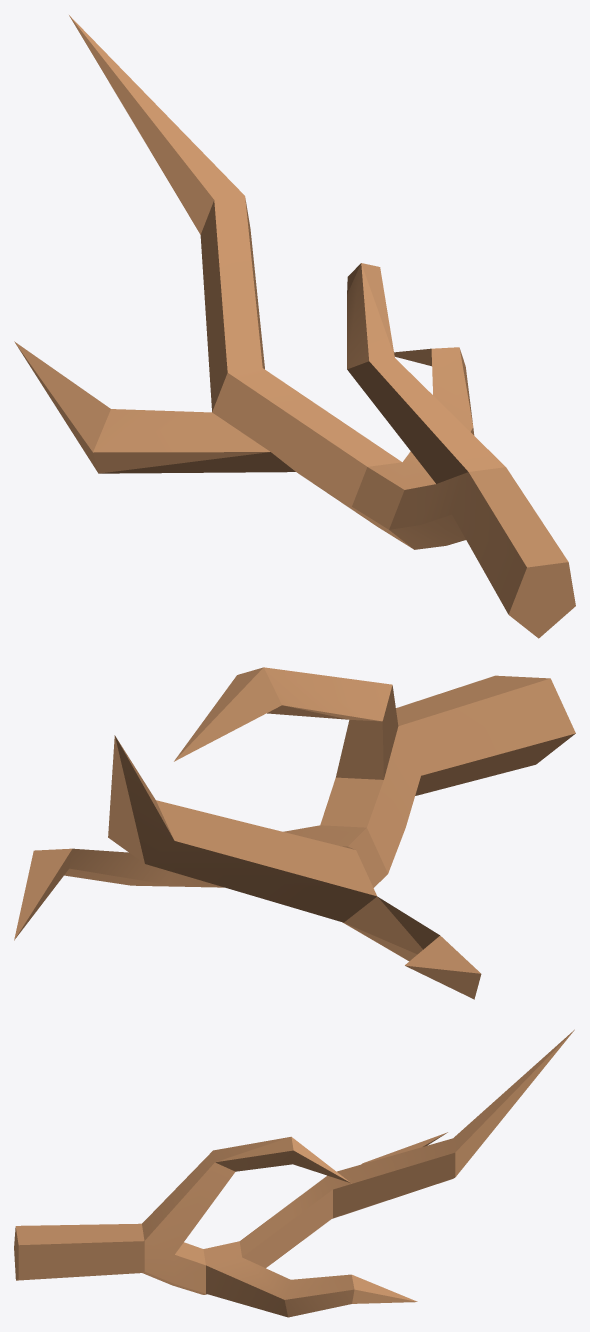
Rendered from debris.fbx.
3 renders of one model, top to bottom at view 1: azimuth 30°, elevation 25°; view 2: azimuth 150°, elevation 25°; view 3: azimuth 270°, elevation 25°, orthographic. The views are drawn at different scales.
Visible parts, largest first — view 1: debris_3; view 2: debris_3; view 3: debris_3.
Part boxes in pixels (x1,y1,x2,y2): debris_3: (14,15,575,638); debris_3: (14,667,575,999); debris_3: (14,1029,574,1317).
Size of the model in its own units: 82.35 by 73.22 by 154.
